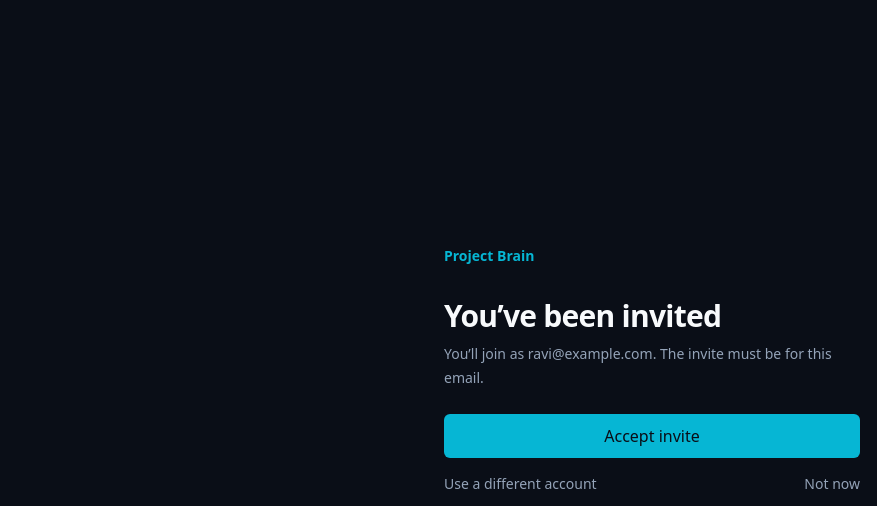
Test case: InviteAcceptPage › shows the same invalid state for every failed accept
The width and height of the screenshot is (877, 506).
Click the button "Accept invite" at (652, 436), box x1=444 y1=414 x2=860 y2=458
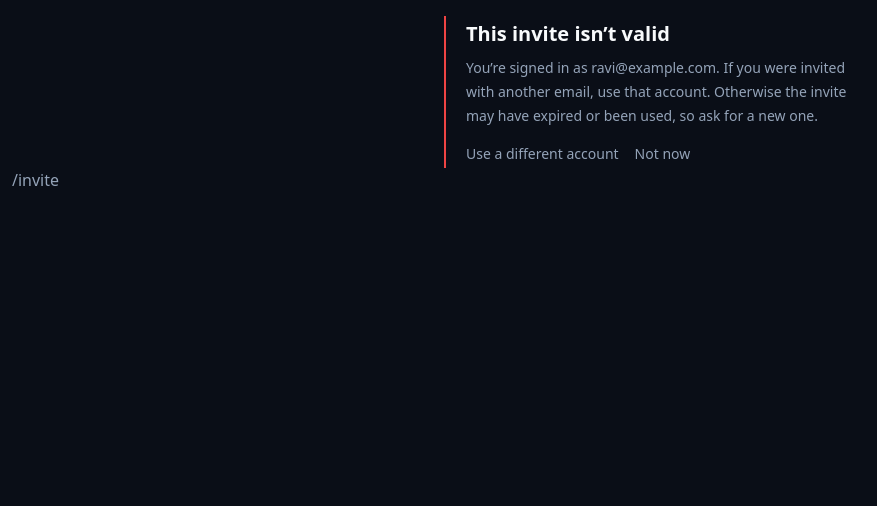
Expected: the button "Use a different account" is shown, x1=466 y1=144 x2=619 y2=164
Expected: the heading "This invite isn’t valid" is shown, x1=466 y1=20 x2=670 y2=47
Expected: the message shows "ravi@example.com", x1=466 y1=58 x2=846 y2=125
